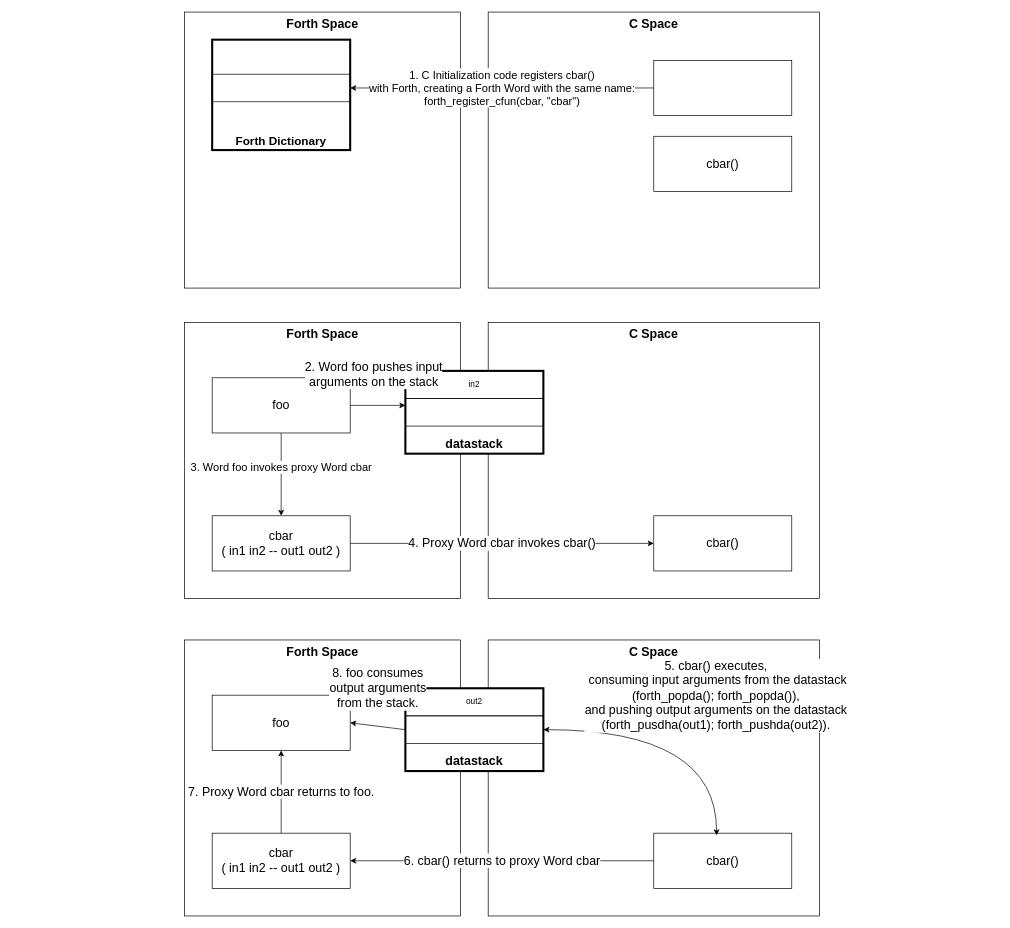
The diagram is 1010 pixels wide and 928 high, and some of its shapes have lost their labels. The centre of each missing label's shape, as x and y in pixels:
"cbar" goes at point (280, 87).
"in1" goes at point (474, 412).
"init()/main()/..." goes at point (722, 88).
"out1" goes at point (474, 729).
